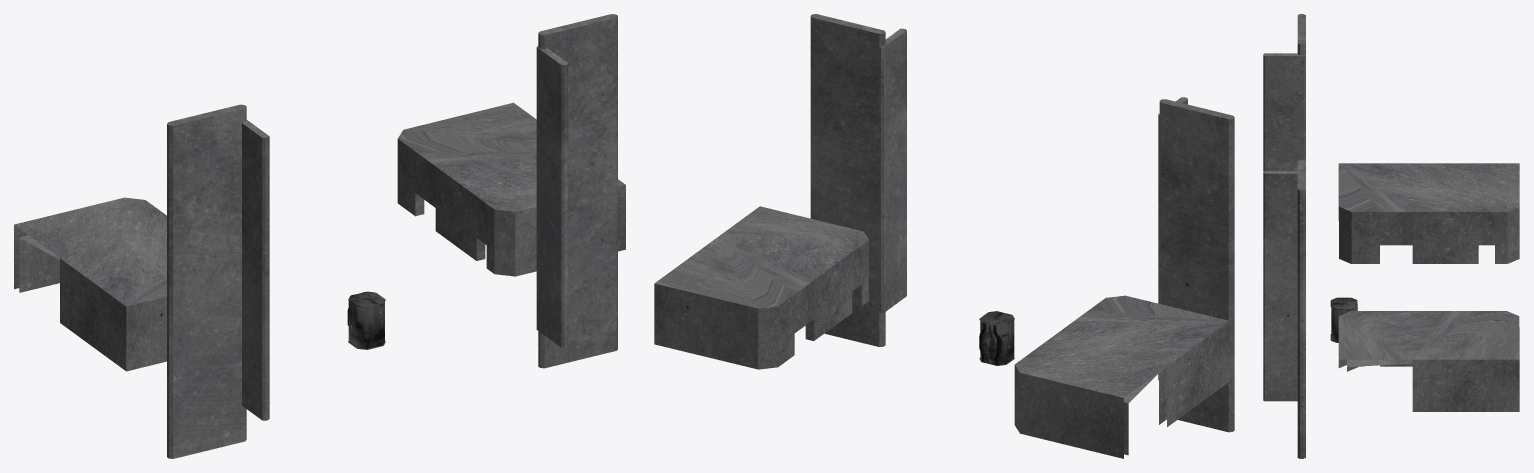
The model's file is somefixes.fbx.
The picture shows the model from 3 angles, left to right: view 1: azimuth 30°, elevation 25°; view 2: azimuth 150°, elevation 25°; view 3: azimuth 270°, elevation 25°; orthographic projection. The views are drawn at different scales.
Parts seen in each view (by area): view 1: Column.003, Ground.024, Ground.025, Column.002, Column.010, Column.007, pCube16; view 2: Ground.025, Ground.024, Column.003, Column.002, Column.010, pCube16, Column.007; view 3: Ground.024, Ground.025, Column.010, Column.007, Column.002, pCube16, Column.003.
Boxes of the visible parts, x1,y1,x2,y2 form: Column.003: [167, 104, 246, 458]; Ground.024: [14, 197, 166, 371]; Ground.025: [397, 102, 625, 276]; Column.002: [538, 14, 617, 368]; Column.010: [536, 46, 568, 347]; Column.007: [242, 120, 269, 420]; pCube16: [347, 291, 385, 349]; Ground.025: [654, 206, 868, 369]; Ground.024: [1014, 295, 1229, 458]; Column.003: [1159, 99, 1234, 432]; Column.002: [810, 14, 885, 346]; Column.010: [879, 28, 906, 313]; pCube16: [979, 311, 1014, 365]; Column.007: [1158, 97, 1187, 380]; Ground.024: [1338, 163, 1519, 263]; Ground.025: [1338, 311, 1519, 411]; Column.010: [1263, 171, 1297, 401]; Column.007: [1263, 53, 1305, 171]; Column.002: [1297, 160, 1305, 458]; pCube16: [1330, 297, 1357, 342]; Column.003: [1297, 14, 1305, 55].
Bounding box in the file's own units: 11.3 × 7.2 × 6.24.
